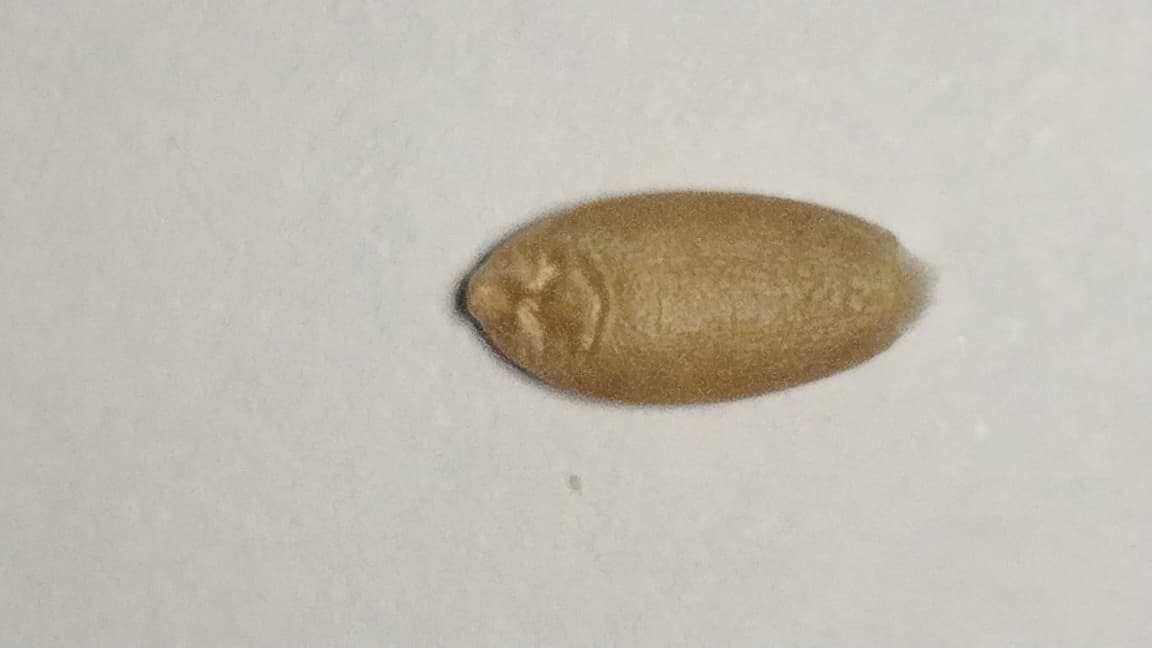healthy: (466, 188, 933, 407)
